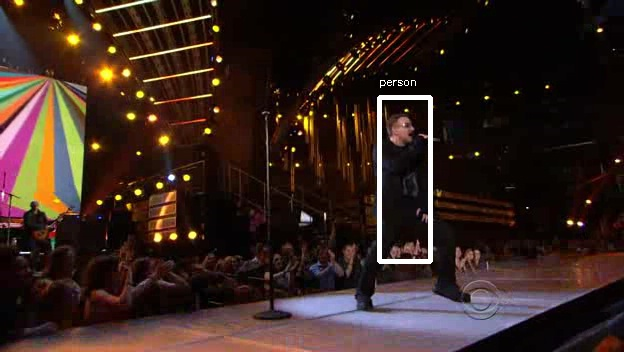person: (370, 115, 439, 238), (367, 115, 436, 238), (373, 115, 442, 238), (370, 112, 439, 235), (370, 118, 439, 241)
target_negative: (130, 70, 606, 286), (251, 26, 516, 218), (347, 14, 526, 85), (62, 252, 107, 336), (227, 248, 272, 297), (401, 351, 457, 352)
